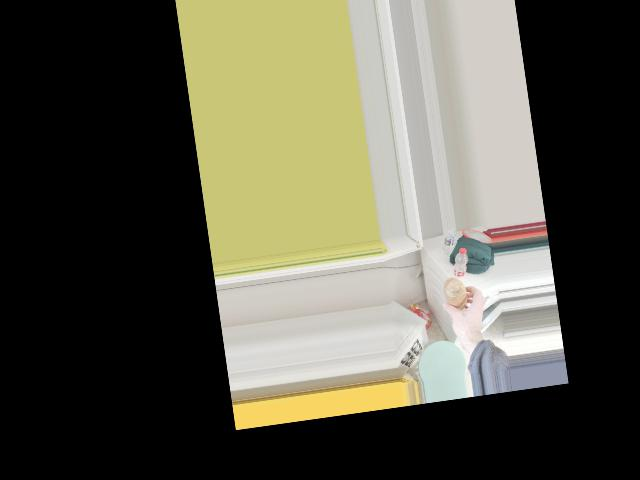sweet_potato: (438, 273, 471, 315)
